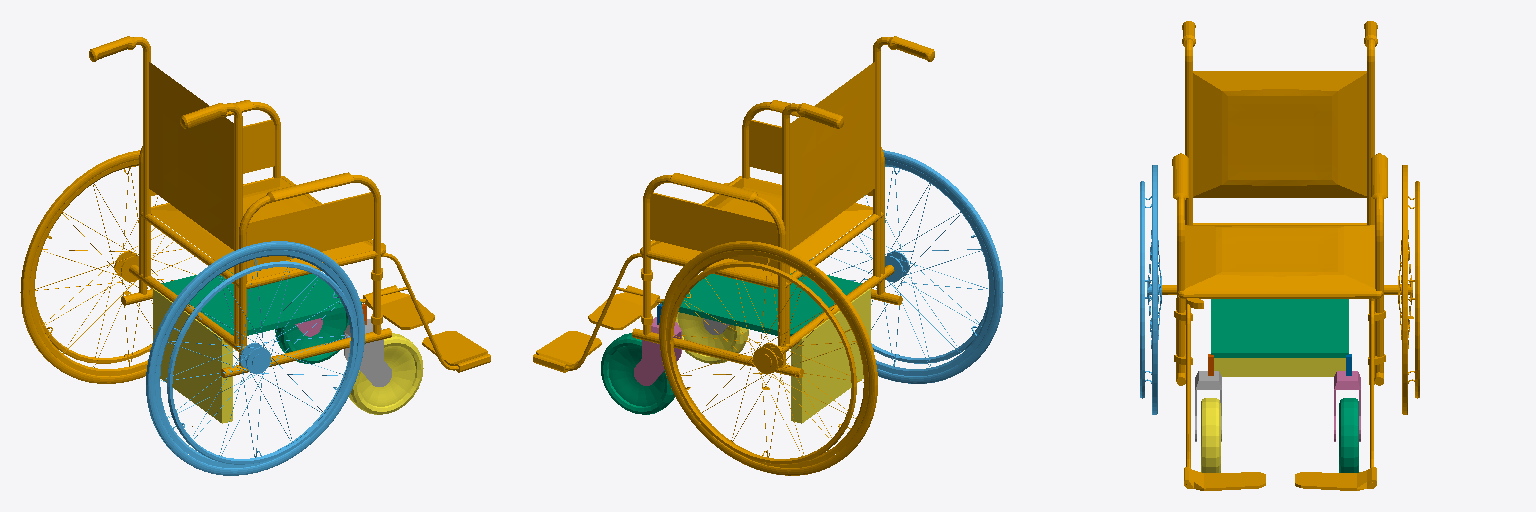
robot.urdf — wheelchair:
<?xml version="1.0" encoding="utf-8"?>
<!-- =================================================================================== -->
<!-- |    This document was autogenerated by xacro from [local-path]/wheelchair/src/wheelchair_description/urdf/wheelchair1.xacro | -->
<!-- |    EDITING THIS FILE BY HAND IS NOT RECOMMENDED                                 | -->
<!-- =================================================================================== -->
<robot name="wheelchair" xmlns:xacro="http://www.ros.org/wiki/xacro">
  <!--gazebo>
    <plugin name="differential_drive_controller" filename="libgazebo_ros_diff_drive.so">
      <legacyMode>false</legacyMode>
      <alwaysOn>true</alwaysOn>
      <updateRate>20</updateRate>
      <leftJoint>axle_rear_left_wheel_joint</leftJoint>
      <rightJoint>axle_rear_right_wheel_joint</rightJoint>
      <wheelSeparation>${axle_length}</wheelSeparation>
      <wheelDiameter>${2*main_wheel_radius}</wheelDiameter>
      <torque>20</torque>
      <commandTopic>cmd_vel</commandTopic>
      <odometryTopic>odom</odometryTopic>
      <odometryFrame>odom</odometryFrame>
      <robotBaseFrame>footprint</robotBaseFrame>
    </plugin>
  </gazebo-->
  <gazebo reference="footprint">
    <material>Gazebo/Green</material>
  </gazebo>
  <gazebo reference="rear_right_wheel">
    <material>Gazebo/Blue</material>
  </gazebo>
  <gazebo reference="rear_left_wheel">
    <material>Gazebo/Blue</material>
  </gazebo>
  <gazebo reference="front_left_wheel">
    <material>Gazebo/Blue</material>
  </gazebo>
  <gazebo reference="front_right_wheel">
    <material>Gazebo/Blue</material>
  </gazebo>
  <material name="black">
    <color rgba="0.0 0.0 0.0 1.0"/>
  </material>
  <material name="blue">
    <color rgba="0.0 0.0 0.8 1.0"/>
  </material>
  <material name="green">
    <color rgba="0.0 0.8 0.0 1.0"/>
  </material>
  <material name="grey">
    <color rgba="0.2 0.2 0.2 1.0"/>
  </material>
  <material name="orange">
    <color rgba="1.0 0.423529411765 0.0392156862745 1.0"/>
  </material>
  <material name="brown">
    <color rgba="0.870588235294 0.811764705882 0.764705882353 1.0"/>
  </material>
  <material name="red">
    <color rgba="0.8 0.0 0.0 1.0"/>
  </material>
  <material name="white">
    <color rgba="1.0 1.0 1.0 1.0"/>
  </material>
  <!--
    <gazebo reference="${lr}_wheel">
      <mu1 value="1.0"/>
      <mu2 value="1.0"/>
      <kp  value="10000000.0" />
      <kd  value="1.0" />
      <fdir1 value="1 0 0"/>
      <material>Gazebo/Black</material>
    </gazebo>


    <joint name="${lr}_wheel_hinge" type="continuous">
      <parent link="chassis"/>
      <child link="${lr}_wheel"/>
    <origin xyz="${-wheelPos+chassisLength/2} ${tY*wheelWidth/2+tY*chassisWidth/2} ${wheelRadius}" rpy="0 0 0" />
      <axis xyz="0 1 0" rpy="0 0 0" />
      <limit effort="10000" velocity="10000"/>
      <joint_properties damping="0.0" friction="0.0"/>
    </joint>


    <transmission name="${lr}_trans">
      <type>transmission_interface/SimpleTransmission</type>
      <joint name="${lr}_wheel_hinge">
        <hardwareInterface>EffortJointInterface</hardwareInterface>
      </joint>
      <actuator name="${lr}Motor">
        <hardwareInterface>EffortJointInterface</hardwareInterface>
        <mechanicalReduction>10</mechanicalReduction>
      </actuator>
    </transmission>
  -->
  <link name="footprint">
    <pose rpy=" 0 0 0" xyz="1 0 0"/>
    <visual>
      <origin rpy=" 0 0 0" xyz="0 0 0"/>
      <geometry>
        <box size="0.001 0.001 0.001"/>
      </geometry>
    </visual>
    <visual>
      <origin rpy="0 0 -3.14" xyz="0 0 0"/>
      <geometry>
        <mesh filename="package://wheelchair_description/meshes/wheelchair_chasis.stl" scale="0.01 0.01 0.01"/>
      </geometry>
    </visual>
  </link>
  <link name="axle">
    <inertial>
      <origin rpy=" 0 0 0" xyz="0 0 0"/>
      <mass value="2.0"/>
      <inertia ixx="0.0271611884373" ixy="0" ixz="0" iyy="3.33333333333e-05" iyz="0" izz="3.33333333333e-05"/>
    </inertial>
    <collision name="collision">
      <origin rpy=" 0 0 0" xyz="0 0 0"/>
      <geometry>
        <box size="0.01 0.403568 0.01"/>
      </geometry>
    </collision>
    <visual>
      <origin rpy=" 0 0 0" xyz="0 0 0"/>
      <geometry>
        <box size="0.01 0.403568 0.01"/>
      </geometry>
    </visual>
  </link>
  <joint name="footprint_axle_joint" type="fixed">
    <origin rpy="0 0 0" xyz="0 0 0.201784"/>
    <parent link="footprint"/>
    <child link="axle"/>
  </joint>
  <link name="base">
    <collision name="base_chassis_collision">
      <geometry>
        <box size="0.250676 0.223568 0.01"/>
      </geometry>
    </collision>
    <visual name="base_visual">
      <origin rpy="0 0 0" xyz="0.125338 0 0"/>
      <geometry>
        <box size="0.250676 0.223568 0.01"/>
      </geometry>
    </visual>
    <inertial name="base_intertial">
      <origin rpy="0 0 0" xyz="0.125338 0 0"/>
      <mass value="73.0"/>
      <inertia ixx="0.304669457963" ixy="0" ixz="0" iyy="0.382875613271" iyz="0" izz="0.382875613271"/>
    </inertial>
  </link>
  <joint name="axle_base_joint" type="fixed">
    <origin rpy="0 0 0" xyz="0 0 0"/>
    <parent link="axle"/>
    <child link="base"/>
  </joint>
  <link name="base1">
    <collision name="base1_chassis_collision">
      <geometry>
        <box size="0.02 0.223568 0.15"/>
      </geometry>
    </collision>
    <visual name="base1_visual">
      <origin rpy="0 0 0" xyz="0 0 -0.075"/>
      <geometry>
        <box size="0.02 0.223568 0.15"/>
      </geometry>
    </visual>
    <inertial name="base1_intertial">
      <origin rpy="0 0 0" xyz="0 0 -0.075"/>
      <mass value="0.1"/>
      <inertia ixx="0.000604022088533" ixy="0" ixz="0" iyy="0.000190833333333" iyz="0" izz="0.000190833333333"/>
    </inertial>
  </link>
  <joint name="axle_base1_joint" type="fixed">
    <origin rpy="0 0 0" xyz="0 0 0"/>
    <parent link="axle"/>
    <child link="base1"/>
  </joint>
  <link name="front_left_leg">
    <collision name="front_left_leg_chassis_collision">
      <geometry>
        <box size="0.01 0.01 0.0354"/>
      </geometry>
    </collision>
    <visual name="front_left_leg_visual">
      <origin rpy="0 0 0" xyz="0 0 -0.0177"/>
      <geometry>
        <box size="0.01 0.01 0.0354"/>
      </geometry>
    </visual>
    <inertial name="front_left_leg_intertial">
      <origin rpy="0 0 0" xyz="0 0 -0.0177"/>
      <mass value="0.25"/>
      <inertia ixx="2.81908333333e-05" ixy="0" ixz="0" iyy="2.81908333333e-05" iyz="0" izz="2.81908333333e-05"/>
    </inertial>
  </link>
  <joint name="base_front_left_leg_joint" type="fixed">
    <origin rpy="0 0 0" xyz="0.250676 0.111784 0"/>
    <parent link="base"/>
    <child link="front_left_leg"/>
  </joint>
  <link name="front_right_leg">
    <collision name="front_right_leg_chassis_collision">
      <geometry>
        <box size="0.01 0.01 0.0354"/>
      </geometry>
    </collision>
    <visual name="front_right_leg_visual">
      <origin rpy="0 0 0" xyz="0 0 -0.0177"/>
      <geometry>
        <box size="0.01 0.01 0.0354"/>
      </geometry>
    </visual>
    <inertial name="front_right_leg_intertial">
      <origin rpy="0 0 0" xyz="0 0 -0.0177"/>
      <mass value="0.25"/>
      <inertia ixx="2.81908333333e-05" ixy="0" ixz="0" iyy="2.81908333333e-05" iyz="0" izz="2.81908333333e-05"/>
    </inertial>
  </link>
  <joint name="base_front_right_leg_joint" type="fixed">
    <origin rpy="0 0 0" xyz="0.250676 -0.111784 0"/>
    <parent link="base"/>
    <child link="front_right_leg"/>
  </joint>
  <link name="front_left_leg_rev">
    <collision name="front_left_leg_rev_collision">
      <origin rpy="0 0 0" xyz=" 0 0 0"/>
      <geometry>
        <cylinder length="0.01" radius="0.01"/>
      </geometry>
    </collision>
    <!--
      <visual name="${lr}_visual">
        <transparency>0.1</transparency>
        <origin xyz="${xyz}" rpy="${rpy}" />
        <geometry>
          <cylinder length="${wheelWidth - tY}" radius="${wheelRadius}"/>
        </geometry>

        <material name="green"/>
      </visual>
    -->
    <visual name="front_left_leg_rev_visual_mesh">
      <origin rpy="0 0 0" xyz=" 0 0 0"/>
      <geometry>
        <mesh filename="package://wheelchair_description/meshes/wheelchair_wheel_rev.stl" scale="0.01 0.01 0.01"/>
      </geometry>
    </visual>
    <inertial name="front_left_leg_rev_visual_intertial">
      <origin rpy="0 1.57079632679 1.57079632679" xyz="0 0 0"/>
      <mass value="0.25"/>
      <inertia ixx="8.33333333333e-06" ixy="0" ixz="0" iyy="8.33333333333e-06" iyz="0" izz="1.25e-05"/>
    </inertial>
  </link>
  <joint name="front_left_leg_front_left_leg_rev_joint" type="continuous">
    <origin rpy="0 0 0" xyz="0 0 -0.0354"/>
    <child link="front_left_leg_rev"/>
    <parent link="front_left_leg"/>
    <axis rpy="0 0 0" xyz="0 0 1"/>
    <limit effort="100" velocity="100"/>
    <joint_properties damping="0.01" friction="0.5"/>
  </joint>
  <link name="front_right_leg_rev">
    <collision name="front_right_leg_rev_collision">
      <origin rpy="0 0 0" xyz=" 0 0 0"/>
      <geometry>
        <cylinder length="0.01" radius="0.01"/>
      </geometry>
    </collision>
    <!--
      <visual name="${lr}_visual">
        <transparency>0.1</transparency>
        <origin xyz="${xyz}" rpy="${rpy}" />
        <geometry>
          <cylinder length="${wheelWidth - tY}" radius="${wheelRadius}"/>
        </geometry>

        <material name="green"/>
      </visual>
    -->
    <visual name="front_right_leg_rev_visual_mesh">
      <origin rpy="0 0 0" xyz=" 0 0 0"/>
      <geometry>
        <mesh filename="package://wheelchair_description/meshes/wheelchair_wheel_rev.stl" scale="0.01 0.01 0.01"/>
      </geometry>
    </visual>
    <inertial name="front_right_leg_rev_visual_intertial">
      <origin rpy="0 1.57079632679 1.57079632679" xyz="0 0 0"/>
      <mass value="0.25"/>
      <inertia ixx="8.33333333333e-06" ixy="0" ixz="0" iyy="8.33333333333e-06" iyz="0" izz="1.25e-05"/>
    </inertial>
  </link>
  <joint name="front_right_leg_front_right_leg_rev_joint" type="continuous">
    <origin rpy="0 0 0" xyz="0 0 -0.0354"/>
    <child link="front_right_leg_rev"/>
    <parent link="front_right_leg"/>
    <axis rpy="0 0 0" xyz="0 0 1"/>
    <limit effort="100" velocity="100"/>
    <joint_properties damping="0.01" friction="0.5"/>
  </joint>
  <link name="rear_left_wheel">
    <collision name="rear_left_wheel_collision">
      <origin rpy="-1.57079632679 0 0" xyz=" 0 0 0"/>
      <geometry>
        <cylinder length="0.0356884" radius="0.201784"/>
      </geometry>
    </collision>
    <!--
      <visual name="${lr}_visual">
        <transparency>0.1</transparency>
        <origin xyz="${xyz}" rpy="${rpy}" />
        <geometry>
          <cylinder length="${wheelWidth - tY}" radius="${wheelRadius}"/>
        </geometry>

        <material name="green"/>
      </visual>
    -->
    <visual name="rear_left_wheel_visual_mesh">
      <origin rpy="-1.57079632679 0 0" xyz=" 0 0 0"/>
      <geometry>
        <mesh filename="package://wheelchair_description/meshes/wheelchair_wheel.stl" scale="0.01 0.01 0.01"/>
      </geometry>
    </visual>
    <inertial name="rear_left_wheel_visual_intertial">
      <origin rpy="0 1.57079632679 1.57079632679" xyz="0 0 0"/>
      <mass value="3.0"/>
      <inertia ixx="0.0308560024656" ixy="0" ixz="0" iyy="0.0308560024656" iyz="0" izz="0.061075173984"/>
    </inertial>
  </link>
  <joint name="axle_rear_left_wheel_joint" type="continuous">
    <origin rpy="0 0 0" xyz="0 0.201784 0"/>
    <child link="rear_left_wheel"/>
    <parent link="axle"/>
    <axis rpy="0 0 0" xyz="0 1 0"/>
    <limit effort="100" velocity="100"/>
    <joint_properties damping="0.01" friction="0.5"/>
  </joint>
  <link name="rear_right_wheel">
    <collision name="rear_right_wheel_collision">
      <origin rpy="1.57079632679 0 0" xyz=" 0 0 0"/>
      <geometry>
        <cylinder length="0.0356884" radius="0.201784"/>
      </geometry>
    </collision>
    <!--
      <visual name="${lr}_visual">
        <transparency>0.1</transparency>
        <origin xyz="${xyz}" rpy="${rpy}" />
        <geometry>
          <cylinder length="${wheelWidth - tY}" radius="${wheelRadius}"/>
        </geometry>

        <material name="green"/>
      </visual>
    -->
    <visual name="rear_right_wheel_visual_mesh">
      <origin rpy="1.57079632679 0 0" xyz=" 0 0 0"/>
      <geometry>
        <mesh filename="package://wheelchair_description/meshes/wheelchair_wheel.stl" scale="0.01 0.01 0.01"/>
      </geometry>
    </visual>
    <inertial name="rear_right_wheel_visual_intertial">
      <origin rpy="0 1.57079632679 1.57079632679" xyz="0 0 0"/>
      <mass value="3.0"/>
      <inertia ixx="0.0308560024656" ixy="0" ixz="0" iyy="0.0308560024656" iyz="0" izz="0.061075173984"/>
    </inertial>
  </link>
  <joint name="axle_rear_right_wheel_joint" type="continuous">
    <origin rpy="0 0 0" xyz="0 -0.201784 0"/>
    <child link="rear_right_wheel"/>
    <parent link="axle"/>
    <axis rpy="0 0 0" xyz="0 1 0"/>
    <limit effort="100" velocity="100"/>
    <joint_properties damping="0.01" friction="0.5"/>
  </joint>
  <link name="front_left_wheel">
    <collision name="front_left_wheel_collision">
      <origin rpy="1.57079632679 0 0" xyz=" 0 0 0"/>
      <geometry>
        <cylinder length="0.032" radius="0.068"/>
      </geometry>
    </collision>
    <!--
      <visual name="${lr}_visual">
        <transparency>0.1</transparency>
        <origin xyz="${xyz}" rpy="${rpy}" />
        <geometry>
          <cylinder length="${wheelWidth - tY}" radius="${wheelRadius}"/>
        </geometry>

        <material name="green"/>
      </visual>
    -->
    <visual name="front_left_wheel_visual_mesh">
      <origin rpy="1.57079632679 0 0" xyz=" 0 0 0"/>
      <geometry>
        <mesh filename="package://wheelchair_description/meshes/wheelchair_wheel_small.stl" scale="0.01 0.01 0.01"/>
      </geometry>
    </visual>
    <inertial name="front_left_wheel_visual_intertial">
      <origin rpy="0 1.57079632679 1.57079632679" xyz="0 0 0"/>
      <mass value="1.5"/>
      <inertia ixx="0.001862" ixy="0" ixz="0" iyy="0.001862" iyz="0" izz="0.003468"/>
    </inertial>
  </link>
  <joint name="front_left_leg_rev_front_left_wheel_joint" type="continuous">
    <origin rpy="0 0 0" xyz="0.04 0 -0.096"/>
    <child link="front_left_wheel"/>
    <parent link="front_left_leg_rev"/>
    <axis rpy="0 0 0" xyz="0 1 0"/>
    <limit effort="100" velocity="100"/>
    <joint_properties damping="0.01" friction="0.5"/>
  </joint>
  <link name="front_right_wheel">
    <collision name="front_right_wheel_collision">
      <origin rpy="1.57079632679 0 0" xyz=" 0 0 0"/>
      <geometry>
        <cylinder length="0.032" radius="0.068"/>
      </geometry>
    </collision>
    <!--
      <visual name="${lr}_visual">
        <transparency>0.1</transparency>
        <origin xyz="${xyz}" rpy="${rpy}" />
        <geometry>
          <cylinder length="${wheelWidth - tY}" radius="${wheelRadius}"/>
        </geometry>

        <material name="green"/>
      </visual>
    -->
    <visual name="front_right_wheel_visual_mesh">
      <origin rpy="1.57079632679 0 0" xyz=" 0 0 0"/>
      <geometry>
        <mesh filename="package://wheelchair_description/meshes/wheelchair_wheel_small.stl" scale="0.01 0.01 0.01"/>
      </geometry>
    </visual>
    <inertial name="front_right_wheel_visual_intertial">
      <origin rpy="0 1.57079632679 1.57079632679" xyz="0 0 0"/>
      <mass value="1.5"/>
      <inertia ixx="0.001862" ixy="0" ixz="0" iyy="0.001862" iyz="0" izz="0.003468"/>
    </inertial>
  </link>
  <joint name="front_right_leg_rev_front_right_wheel_joint" type="continuous">
    <origin rpy="0 0 0" xyz="0.04 0 -0.096"/>
    <child link="front_right_wheel"/>
    <parent link="front_right_leg_rev"/>
    <axis rpy="0 0 0" xyz="0 1 0"/>
    <limit effort="100" velocity="100"/>
    <joint_properties damping="0.01" friction="0.5"/>
  </joint>
</robot>

--- Facts derived from the render (not from the file) ---
3 views of the same robot in one strip: view 1: azimuth 30°, elevation 25°; view 2: azimuth 150°, elevation 25°; view 3: azimuth 270°, elevation 25° (orthographic).
Model wheelchair with 12 links and 11 joints (6 continuous, 5 fixed), rooted at footprint, posed every joint at zero.
Links seen in each view (by area): view 1: footprint, rear_right_wheel, rear_left_wheel, base, base1, front_right_wheel, front_left_wheel, front_right_leg_rev; view 2: footprint, rear_left_wheel, rear_right_wheel, base, base1, front_left_wheel, front_right_wheel, front_left_leg_rev; view 3: footprint, base, rear_right_wheel, rear_left_wheel, base1, front_left_wheel, front_right_wheel, front_left_leg_rev, front_right_leg_rev.
Link boxes in pixels (left/top/right/bottom): footprint: left=89, top=36, right=490, bottom=426; rear_right_wheel: left=146, top=241, right=364, bottom=475; rear_left_wheel: left=20, top=150, right=214, bottom=383; base: left=161, top=270, right=361, bottom=335; base1: left=153, top=288, right=232, bottom=423; front_right_wheel: left=349, top=333, right=423, bottom=414; front_left_wheel: left=275, top=312, right=348, bottom=363; front_right_leg_rev: left=344, top=319, right=391, bottom=386; footprint: left=533, top=36, right=934, bottom=426; rear_left_wheel: left=659, top=241, right=877, bottom=475; rear_right_wheel: left=809, top=150, right=1003, bottom=383; base: left=662, top=271, right=861, bottom=335; base1: left=791, top=288, right=870, bottom=423; front_left_wheel: left=601, top=333, right=674, bottom=414; front_right_wheel: left=675, top=312, right=748, bottom=363; front_left_leg_rev: left=634, top=317, right=681, bottom=385; footprint: left=1162, top=21, right=1413, bottom=490; base: left=1211, top=299, right=1348, bottom=357; rear_right_wheel: left=1140, top=165, right=1161, bottom=414; rear_left_wheel: left=1398, top=165, right=1419, bottom=414; base1: left=1214, top=358, right=1345, bottom=376; front_left_wheel: left=1339, top=398, right=1358, bottom=472; front_right_wheel: left=1201, top=398, right=1220, bottom=472; front_left_leg_rev: left=1334, top=371, right=1360, bottom=441; front_right_leg_rev: left=1195, top=371, right=1221, bottom=441.
Bounding box of the posed robot: 0.6804 × 0.4522 × 0.6406 m (x, y, z).
Meshes: 4 distinct files referenced, 7 mesh visuals loaded (4 binary STL).
